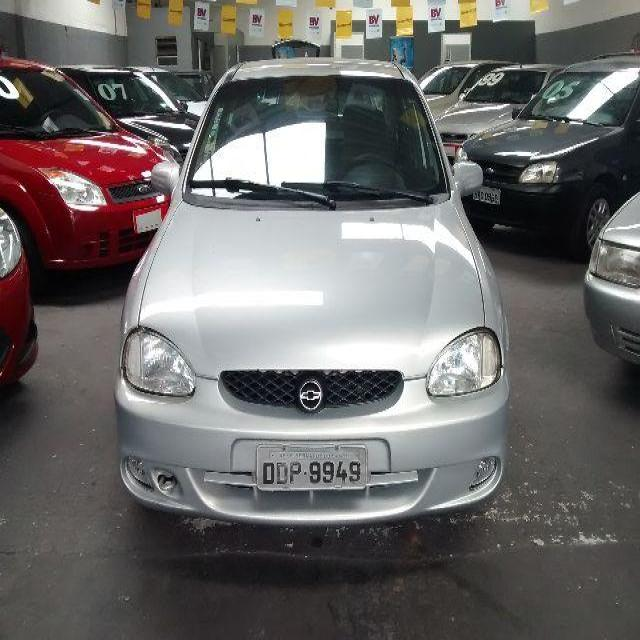Placa: (254, 441, 372, 493)
